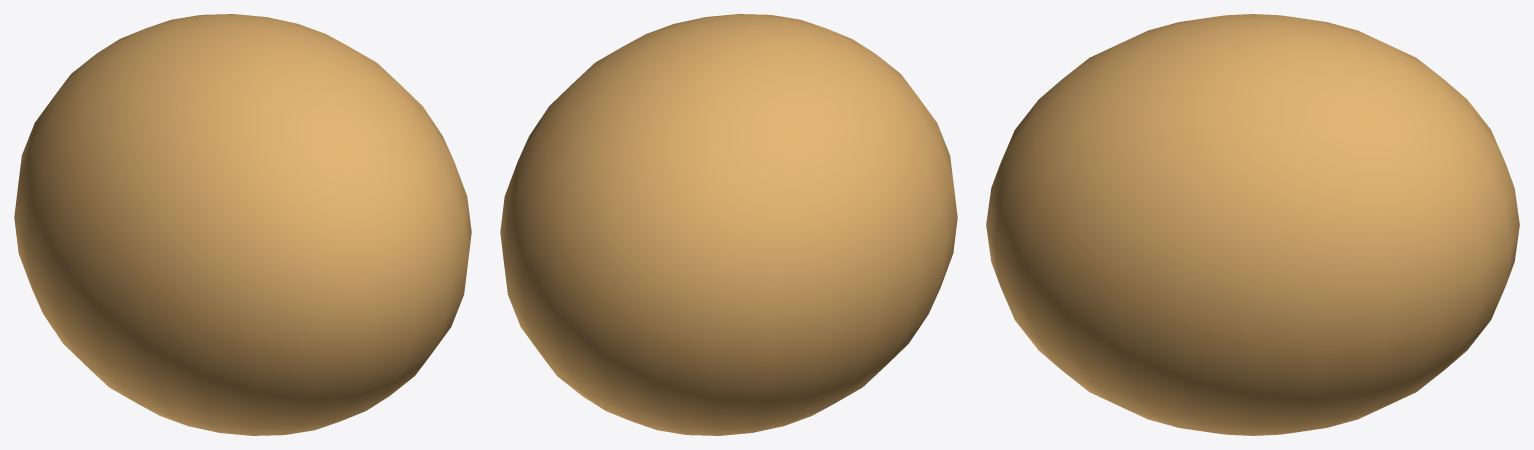
The model's file is nose_button.glb.
The picture shows the model from 3 angles, left to right: view 1: azimuth 30°, elevation 25°; view 2: azimuth 150°, elevation 25°; view 3: azimuth 270°, elevation 25°; orthographic projection. The views are drawn at different scales.
Parts seen in each view (by area): view 1: NoseButton.001; view 2: NoseButton.001; view 3: NoseButton.001.
Boxes of the visible parts, x1,y1,x2,y2 form: NoseButton.001: [14, 14, 471, 435]; NoseButton.001: [500, 14, 957, 435]; NoseButton.001: [986, 14, 1519, 435].
Size of the model in its own units: 0.027 by 0.025 by 0.032.
